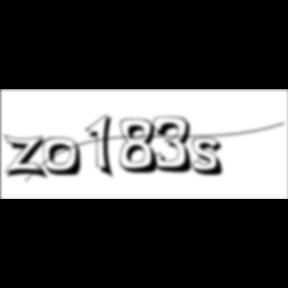1: (84, 114, 120, 182)
3: (154, 116, 200, 176)
8: (120, 117, 164, 176)
o: (43, 137, 85, 179)
s: (191, 137, 230, 179)
z: (3, 134, 53, 182)
